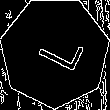L_NW: (26, 27, 84, 77)
